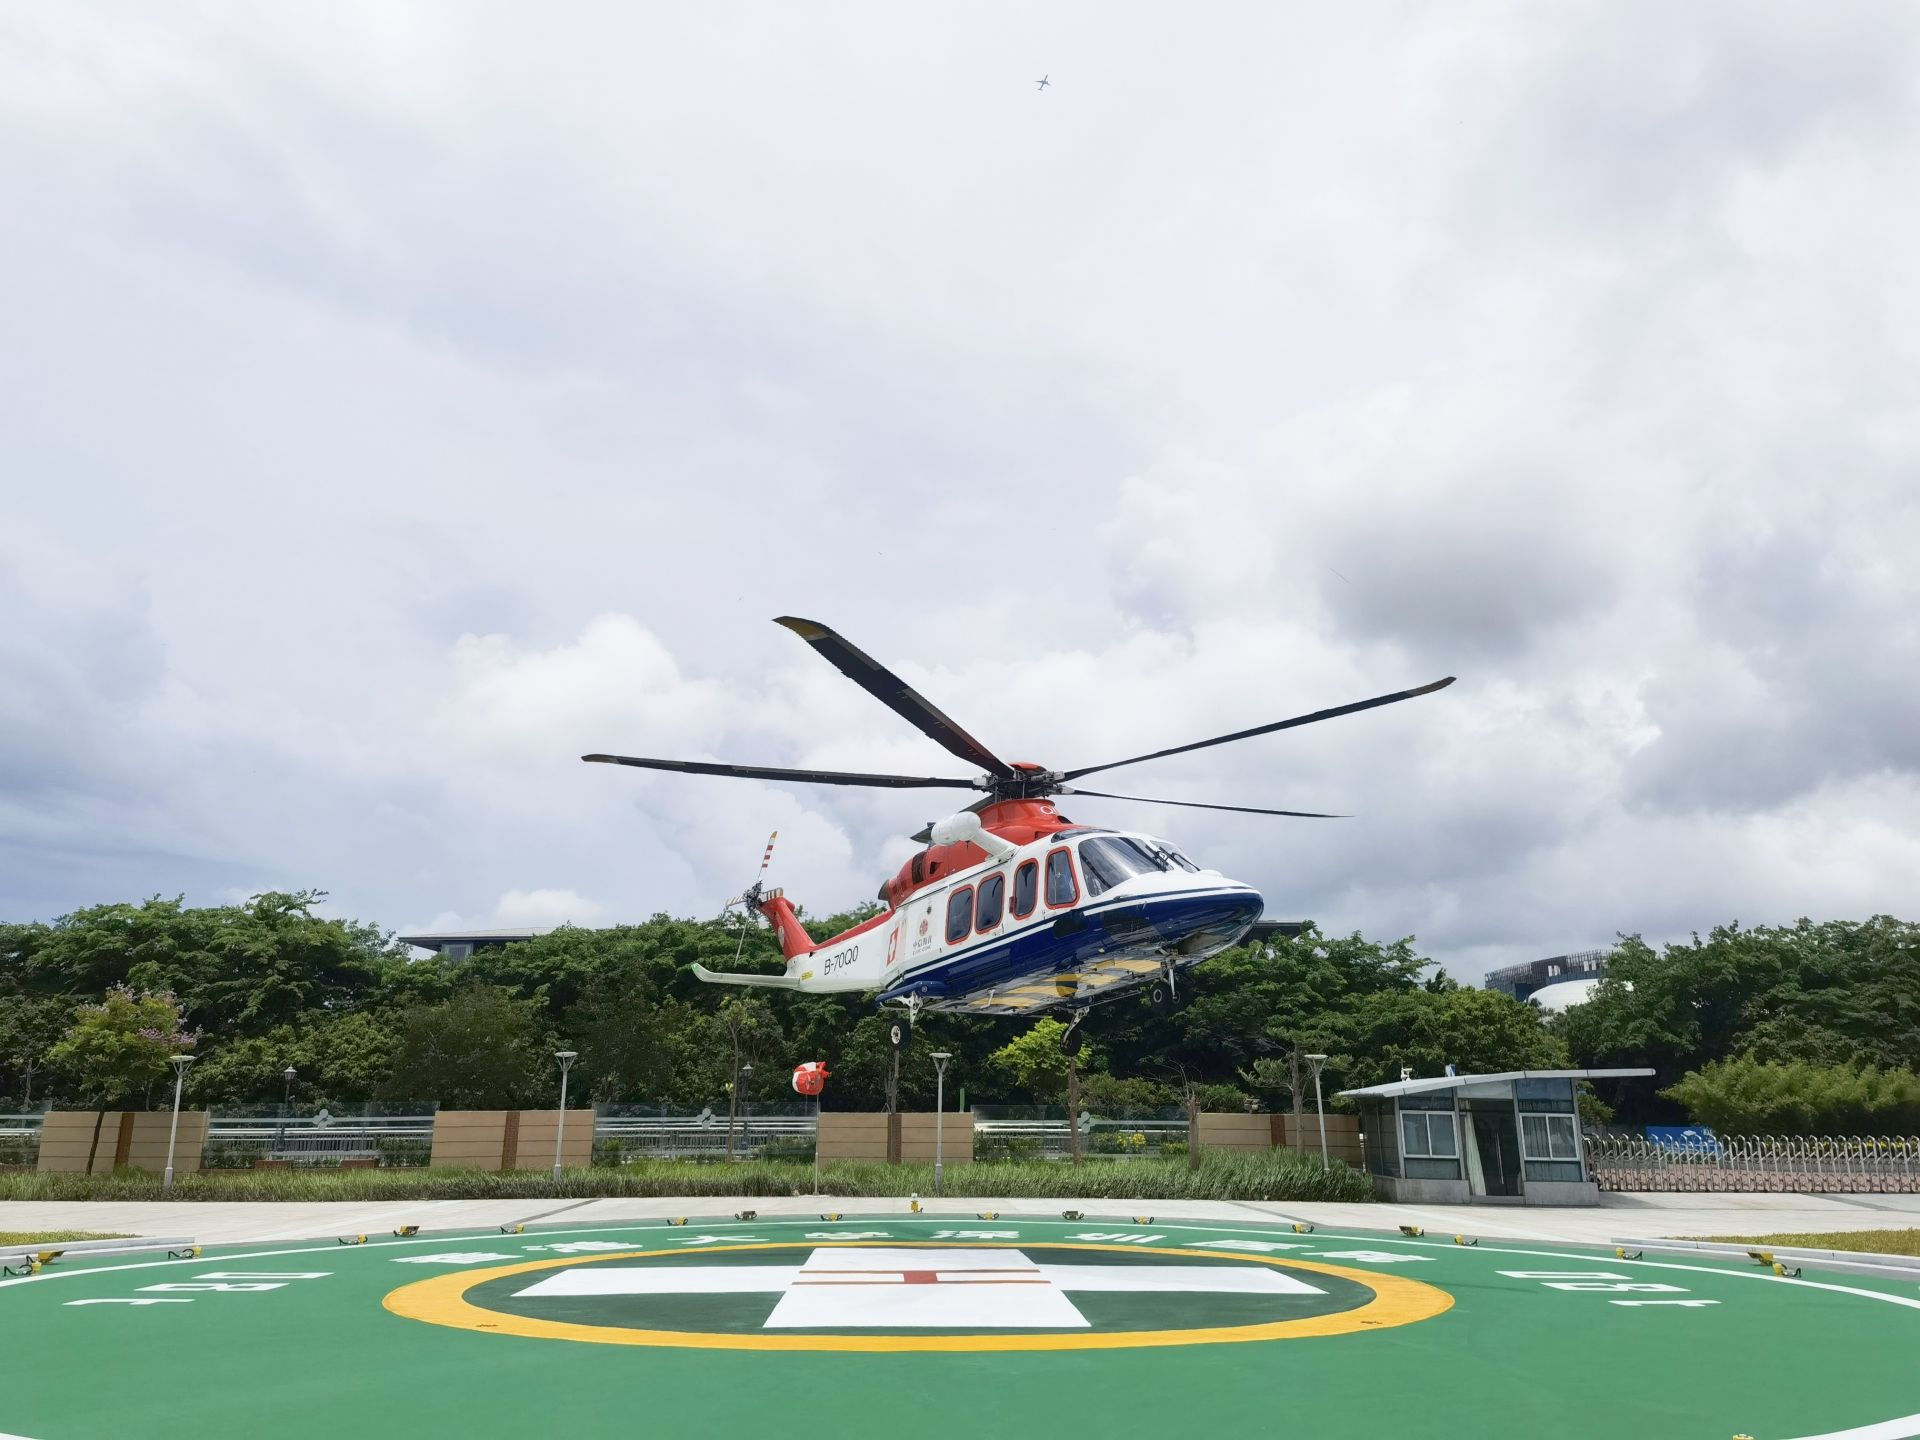H: (789, 1268, 1054, 1286)
